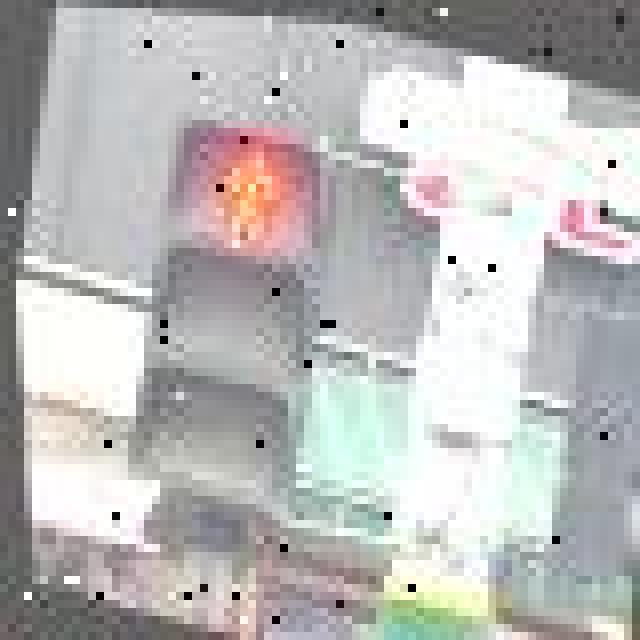redlight: (144, 104, 323, 391)
